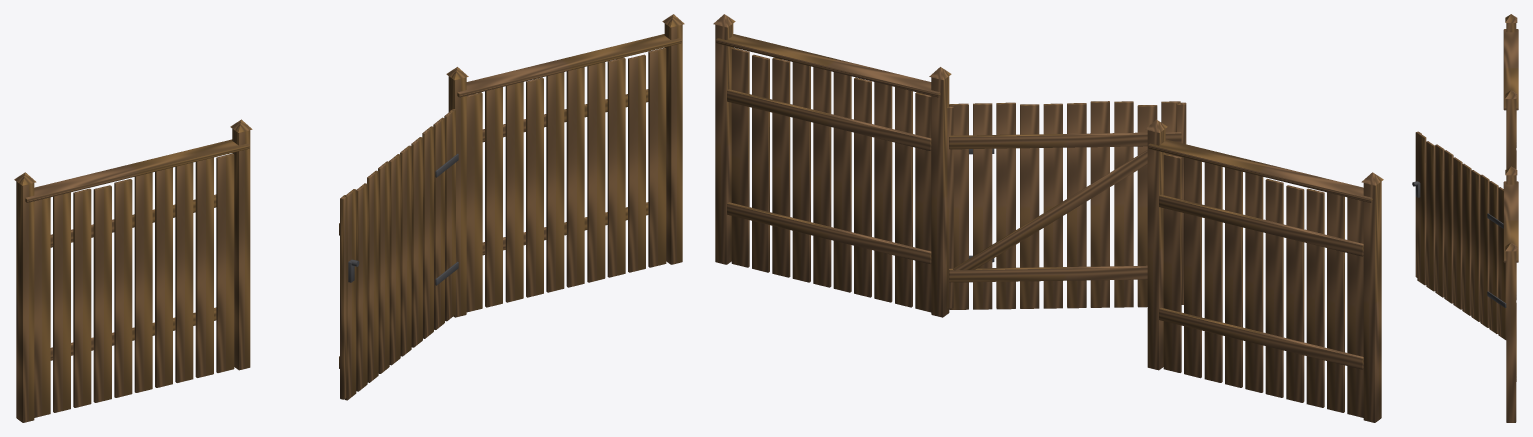
The model's file is fence-gate.glb.
3 renders of one model, left to right at view 1: azimuth 30°, elevation 25°; view 2: azimuth 150°, elevation 25°; view 3: azimuth 270°, elevation 25°, orthographic. The views are drawn at different scales.
Visible parts, largest first — view 1: FencePost0, FenceLPlank8, FenceRPlank5, FenceRPlank7, FenceRPlank4, FenceLPlank5, FenceRPlank2, FenceLPlank7, FenceRPlank6, FenceRPlank9, FenceLPlank2, FenceLPlank9 (+25 smaller); view 2: FencePost0, FencePost2, FencePost3, FencePost1, FenceRPlank2, FenceRPlank5, FenceRPlank7, FenceRPlank4, FenceRPlank6, FenceLPlank7, FenceLPlank5, FenceRPlank9 (+32 smaller); view 3: FencePost3, GatePlank3, GatePlank2, GatePlank4, GatePlank5, GatePlank6, GatePlank7, GatePlank1, GatePlank0, GatePlank8, FenceRCap, FenceLCap (+3 smaller).
Part boxes in pixels (<box>): FencePost0: <box>16,181,34,422</box>; FenceLPlank8: <box>195,157,213,377</box>; FenceRPlank5: <box>566,67,584,287</box>; FenceRPlank7: <box>607,57,625,277</box>; FenceRPlank4: <box>546,72,564,292</box>; FenceLPlank5: <box>134,172,152,392</box>; FenceRPlank2: <box>505,82,523,302</box>; FenceLPlank7: <box>175,162,193,382</box>; FenceRPlank6: <box>587,62,605,282</box>; FenceRPlank9: <box>648,47,666,267</box>; FenceLPlank2: <box>73,188,91,407</box>; FenceLPlank9: <box>216,153,234,372</box>; FencePost0: <box>1363,181,1381,422</box>; FencePost2: <box>931,76,949,317</box>; FencePost3: <box>715,23,733,264</box>; FencePost1: <box>1147,129,1165,370</box>; FenceRPlank2: <box>874,82,892,302</box>; FenceRPlank5: <box>813,67,831,287</box>; FenceRPlank7: <box>772,57,790,277</box>; FenceRPlank4: <box>833,72,851,292</box>; FenceRPlank6: <box>792,62,810,282</box>; FenceLPlank7: <box>1204,162,1222,382</box>; FenceLPlank5: <box>1245,172,1263,392</box>; FenceRPlank9: <box>731,47,749,267</box>; FencePost3: <box>1506,251,1516,422</box>; GatePlank3: <box>1444,150,1453,303</box>; GatePlank2: <box>1435,144,1444,297</box>; GatePlank4: <box>1453,157,1462,309</box>; GatePlank5: <box>1462,163,1471,315</box>; GatePlank6: <box>1471,170,1480,321</box>; GatePlank7: <box>1480,174,1489,327</box>; GatePlank1: <box>1426,141,1435,291</box>; GatePlank0: <box>1417,132,1426,285</box>; GatePlank8: <box>1489,181,1498,333</box>; FenceRCap: <box>1503,181,1518,262</box>; FenceLCap: <box>1503,29,1518,110</box>.
Bounding box in the file's own units: 5.52 × 1.97 × 1.06.
2 materials, 1 textured.
